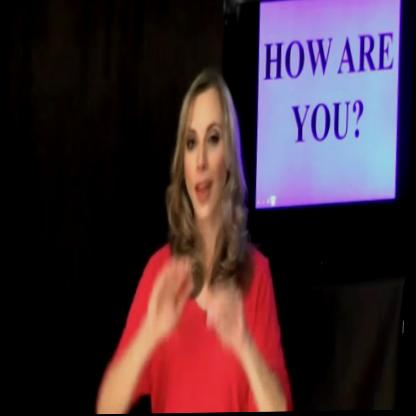HowAreYou: (143, 238, 256, 384)
